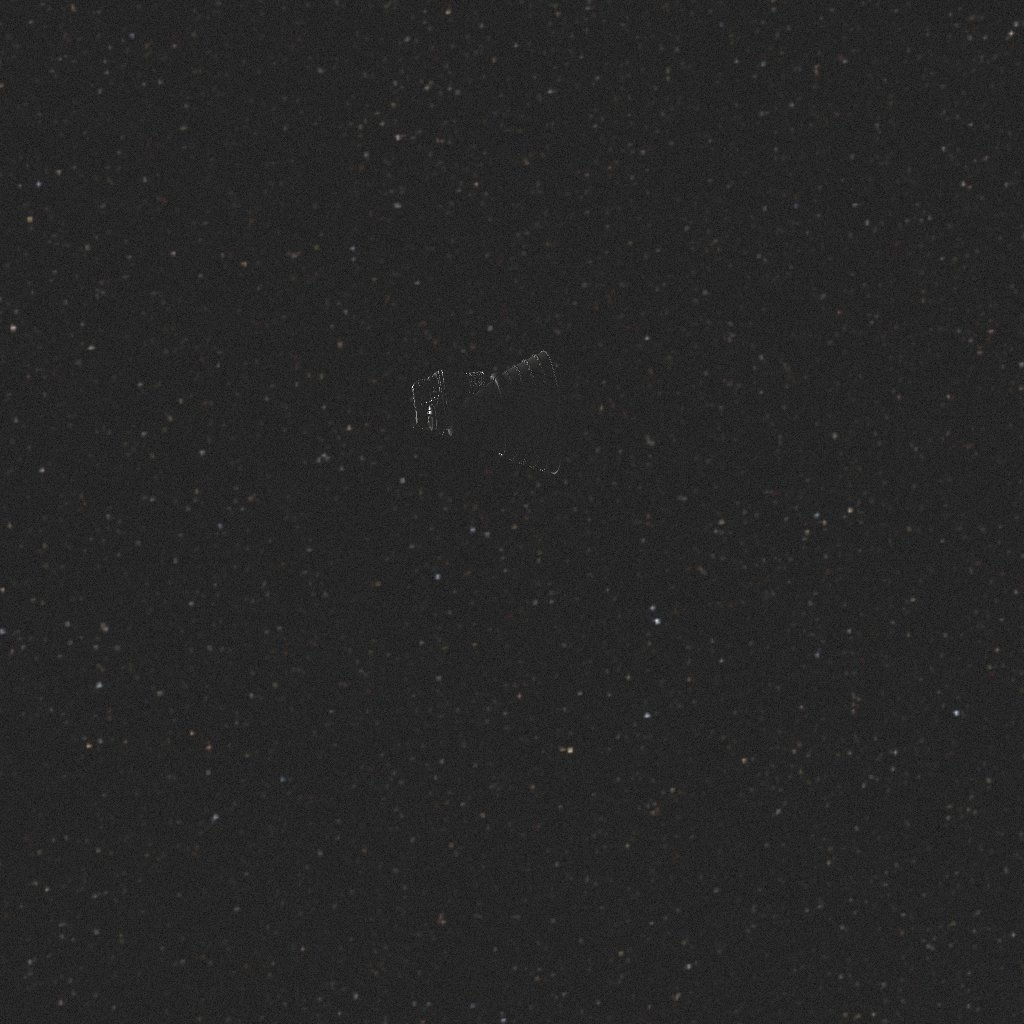debris: (412, 351, 565, 474)
